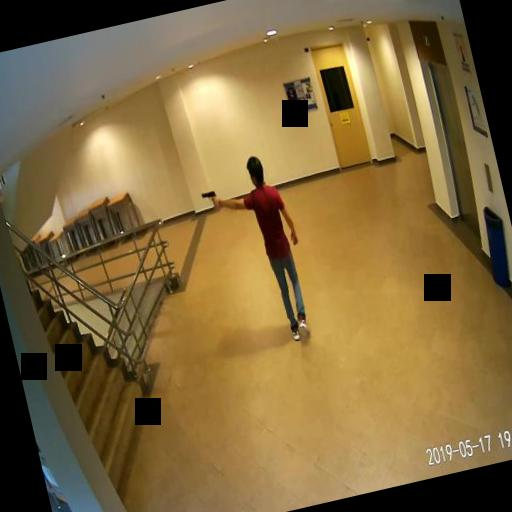Handgun: (199, 188, 218, 210)
